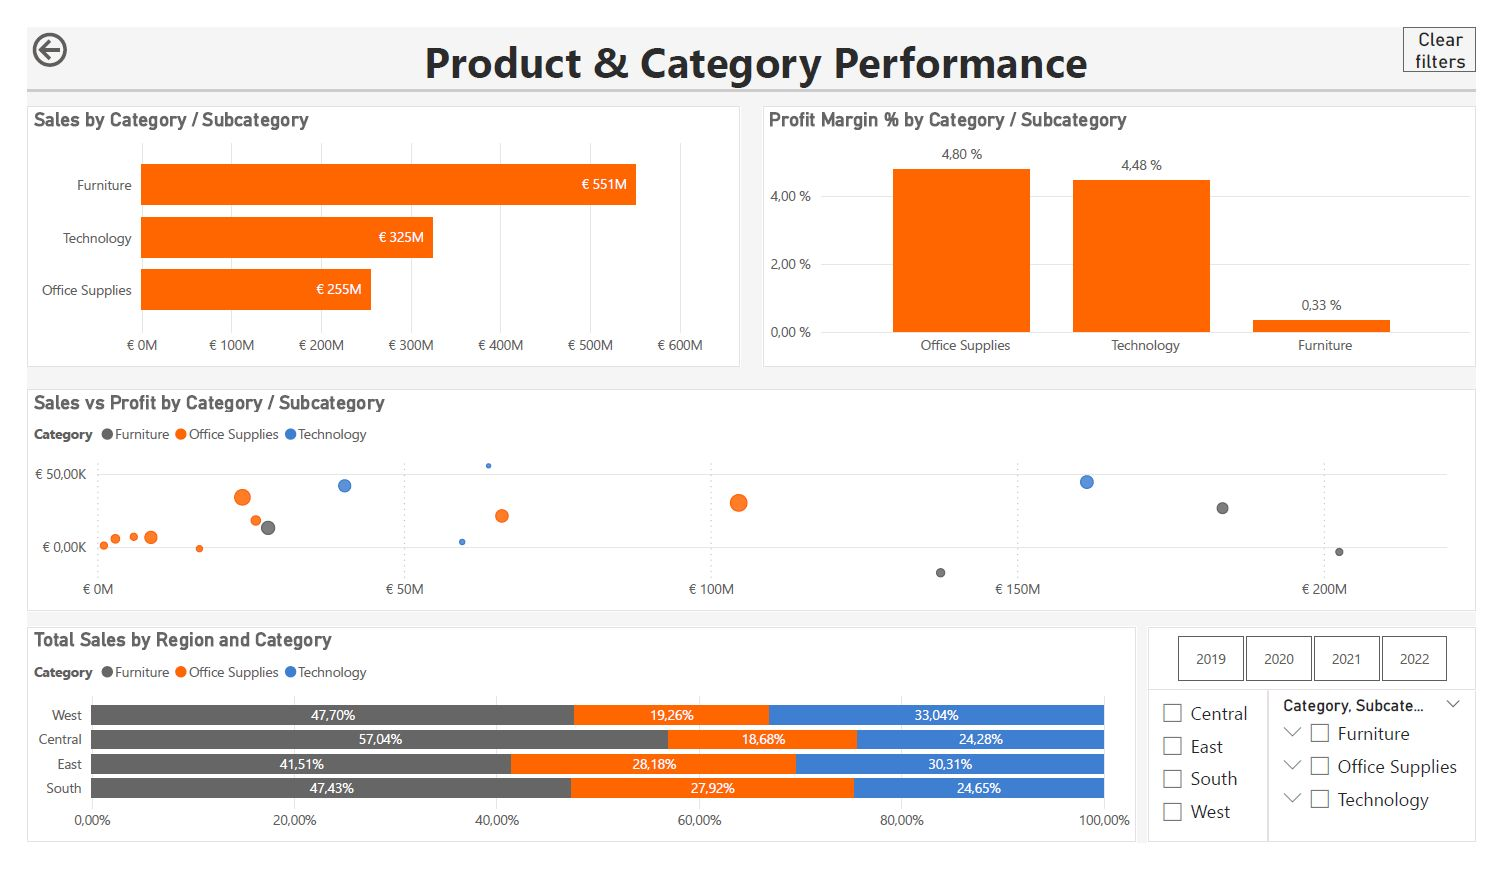

The page's visual inventory and layout, read from the dashboard file:
{"tool":"powerbi","page":{"name":"02. Product & Category Performance","canvas":[1280,720],"ordinal":1},"visuals":[{"type":"textbox","box":[8,0,1272,70],"z":0},{"type":"clusteredBarChart","title":"Sales by Category / Subcategory","fields":{"Category":["Fact_Sales.category","Fact_Sales.subcategory"],"Y":["_Measures.Total Sales"]},"box":[0,70,630,230],"z":1000},{"type":"clusteredColumnChart","title":"Profit Margin % by Category / Subcategory","fields":{"Y":["_Measures.Profit Margin %"],"Category":["Fact_Sales.category","Fact_Sales.subcategory"]},"box":[650,70,630,230],"z":2000},{"type":"slicer","fields":{"Values":["Fact_Sales.category","Fact_Sales.subcategory"]},"box":[1096,585,184,135],"z":3000},{"type":"scatterChart","title":"Sales vs Profit by Category / Subcategory","fields":{"X":["_Measures.Total Sales"],"Y":["_Measures.Total Profit"],"Series":["Fact_Sales.category"],"Size":["_Measures.Total Quantity"],"Category":["Fact_Sales.subcategory"]},"box":[0,320,1280,196],"z":4000},{"type":"slicer","fields":{"Values":["Calendar.Year"]},"box":[992,530,288,56],"z":5000},{"type":"slicer","fields":{"Values":["Fact_Sales.region"]},"box":[992,585,104,135],"z":6000},{"type":"hundredPercentStackedBarChart","fields":{"Category":["Fact_Sales.region"],"Y":["_Measures.Total Sales"],"Series":["Fact_Sales.category"]},"box":[0,530,982,190],"z":7000},{"type":"actionButton","box":[0,0,100,40],"z":8000},{"type":"shape","box":[0,32,1280,48],"z":9000},{"type":"actionButton","title":"Clear filters","box":[1216,0,64,40],"z":10000}]}

Visuals, with their boxes in screenshot pixels (x1, y1, x2, y2), scaled from the page's 1280x720 canvas onto the 1502x869 screenshot:
textbox: l=9, t=0, r=1501, b=84
"Sales by Category / Subcategory" clusteredBarChart: l=0, t=84, r=739, b=362
"Profit Margin % by Category / Subcategory" clusteredColumnChart: l=763, t=84, r=1501, b=362
slicer - Fact_Sales.category x Fact_Sales.subcategory: l=1286, t=706, r=1501, b=868
"Sales vs Profit by Category / Subcategory" scatterChart: l=0, t=386, r=1501, b=623
slicer - Calendar.Year: l=1164, t=640, r=1501, b=707
slicer - Fact_Sales.region: l=1164, t=706, r=1286, b=868
hundredPercentStackedBarChart - Fact_Sales.region x _Measures.Total Sales: l=0, t=640, r=1152, b=868
actionButton: l=0, t=0, r=117, b=48
shape: l=0, t=39, r=1501, b=97
"Clear filters" actionButton: l=1427, t=0, r=1501, b=48
